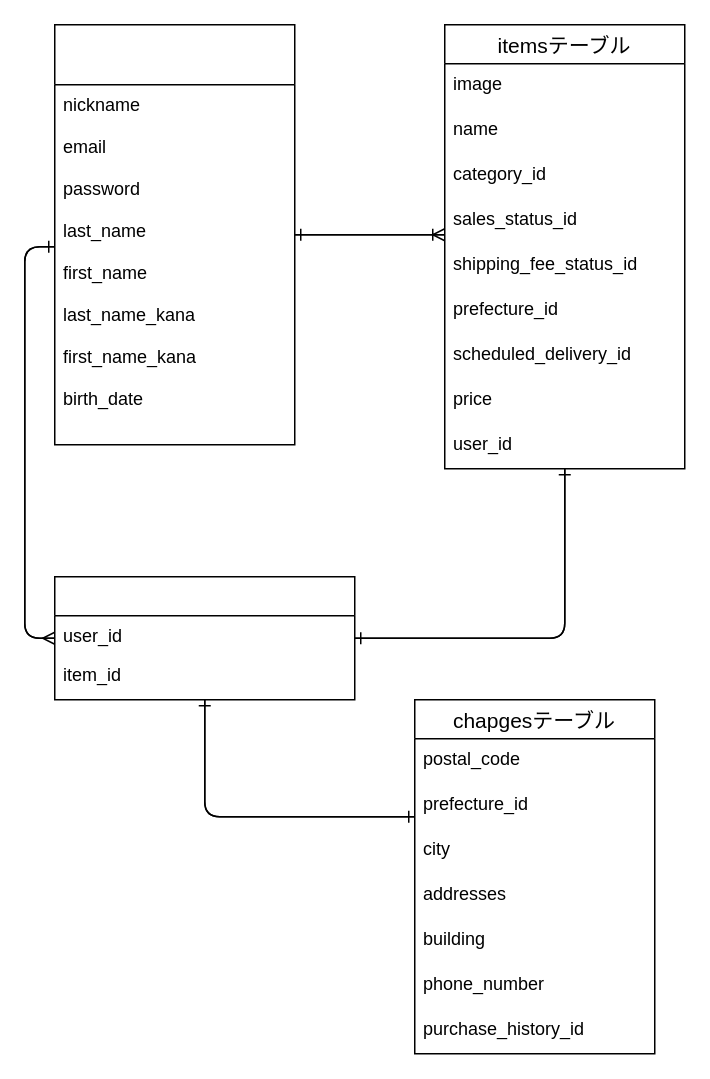
Image size: 710x1079. Some labels were removed from this diagram. The box of each missing label's shape, as (x1, y1, x2, y2) in pixels:
purchase_nistoryテーブル: (53, 575, 355, 700)
usersテーブル: (53, 23, 295, 445)
